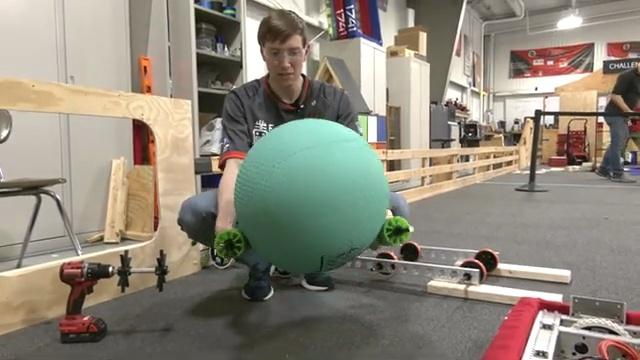ALGAE: (232, 116, 390, 275)
